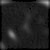node: (7, 29, 18, 40)
